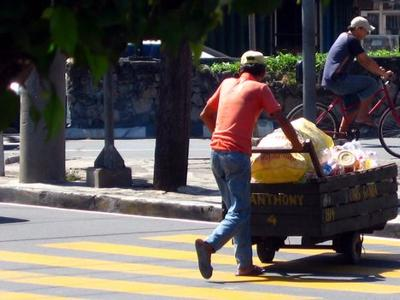person: (190, 50, 304, 282)
